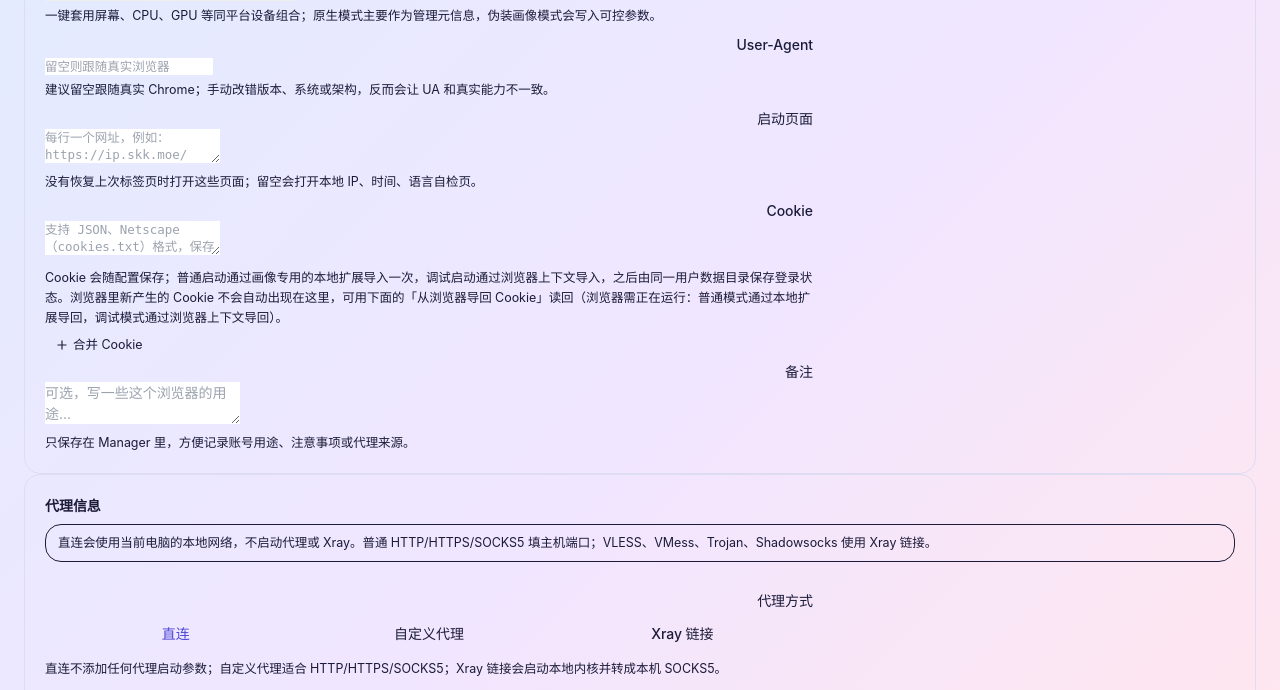
ProfileForm cookies and layout › merges pasted Name=Value cookies through the backend
This screenshot has width=1280, height=690.
(page scrolled)
Click the button "合并 Cookie" at (99, 344), box x1=45 y1=336 x2=152 y2=353
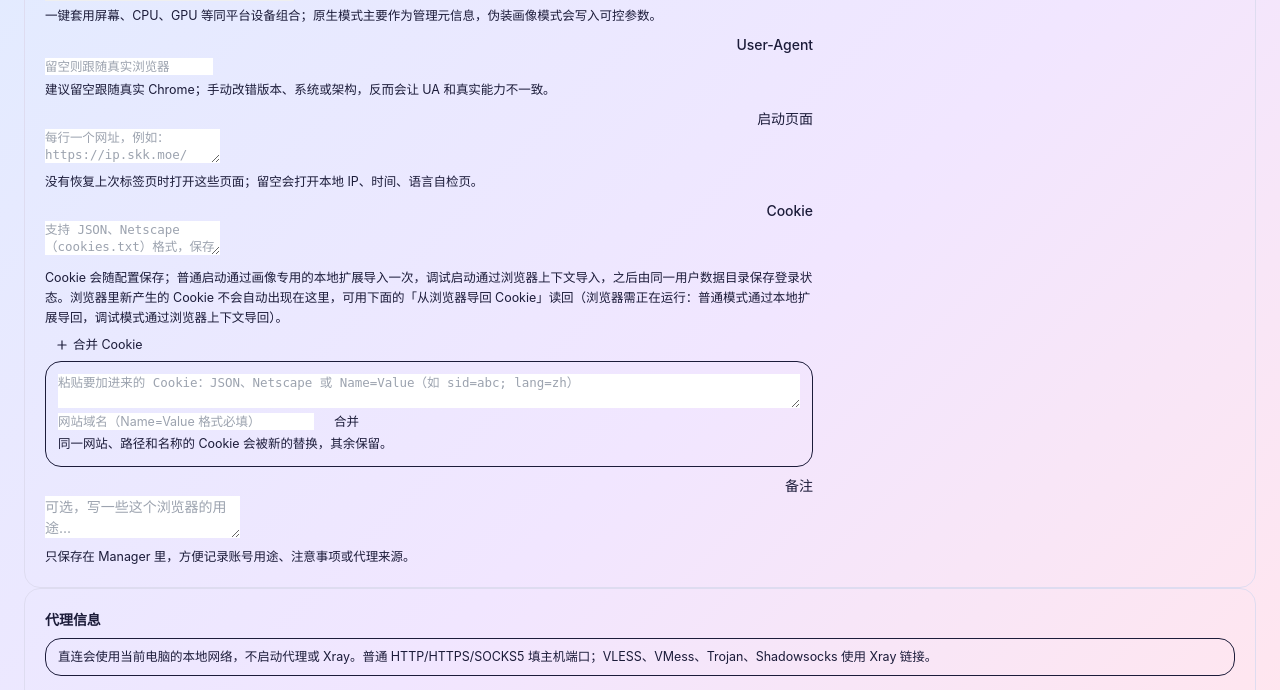
Replace the text in the text box with placeholder "粘贴要加进来的 Cookie" with "sid=abc" at (429, 391), box x1=58 y1=374 x2=800 y2=408
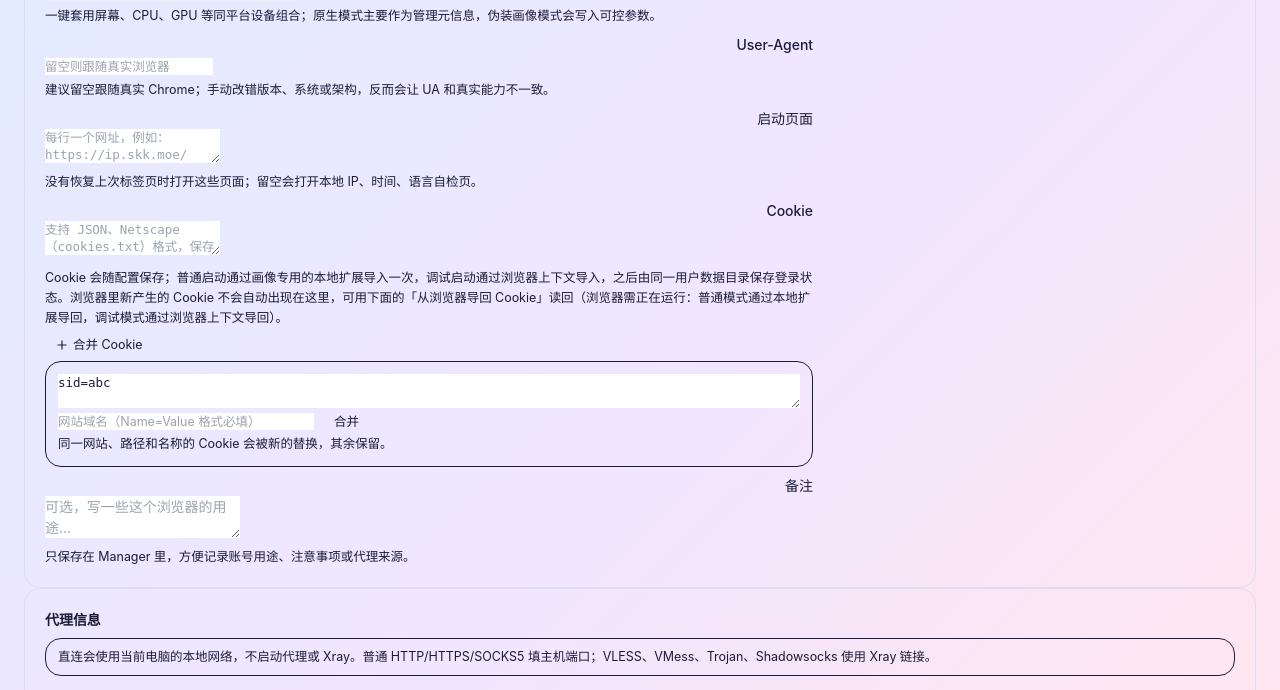
Type "example.com" into the field with placeholder "网站域名（Name=Value 格式必填）" at (186, 422), box x1=58 y1=413 x2=314 y2=430
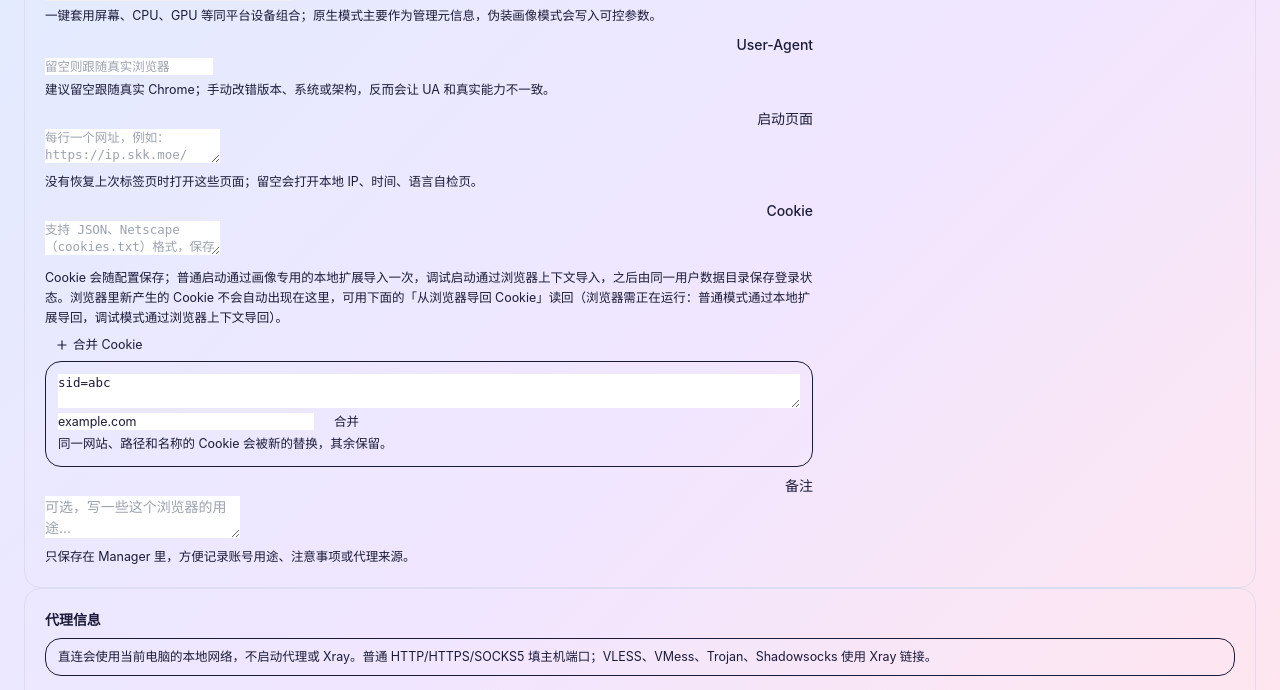
Click the button "合并" at (346, 422), box x1=322 y1=413 x2=371 y2=430
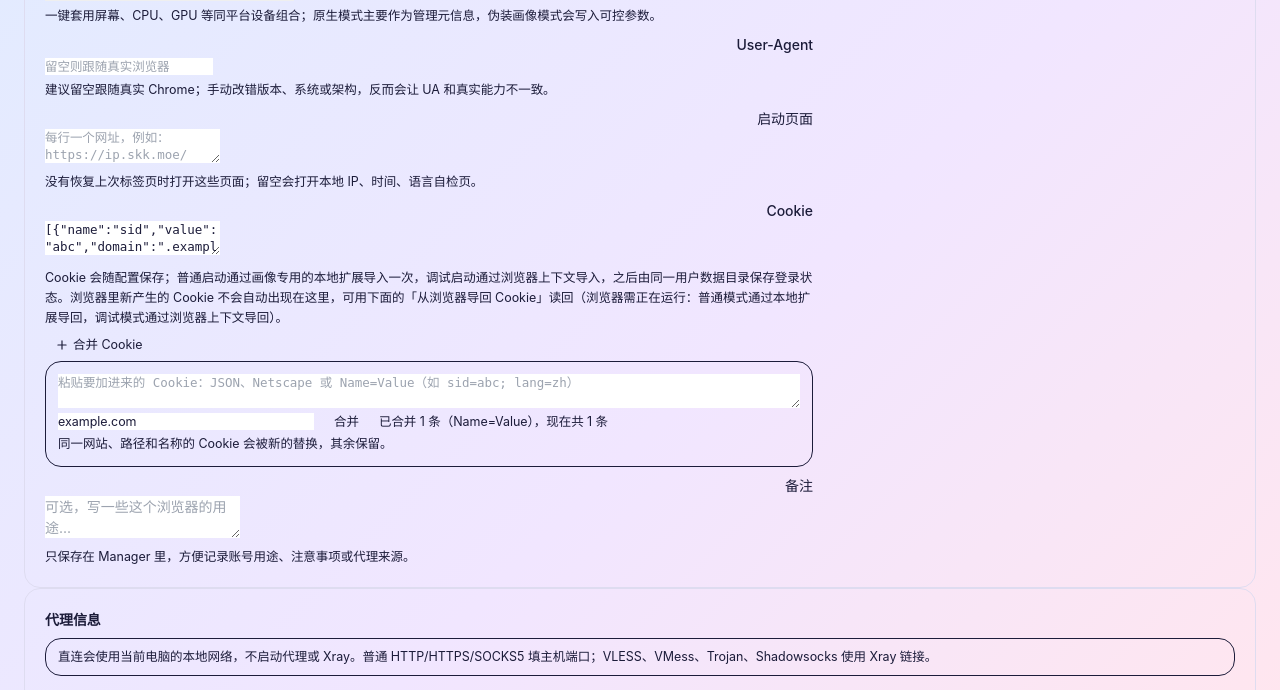
Result: the text "已合并 1 条（Name=Value），现在共 1 条" is shown at x1=379 y1=413 x2=608 y2=430
